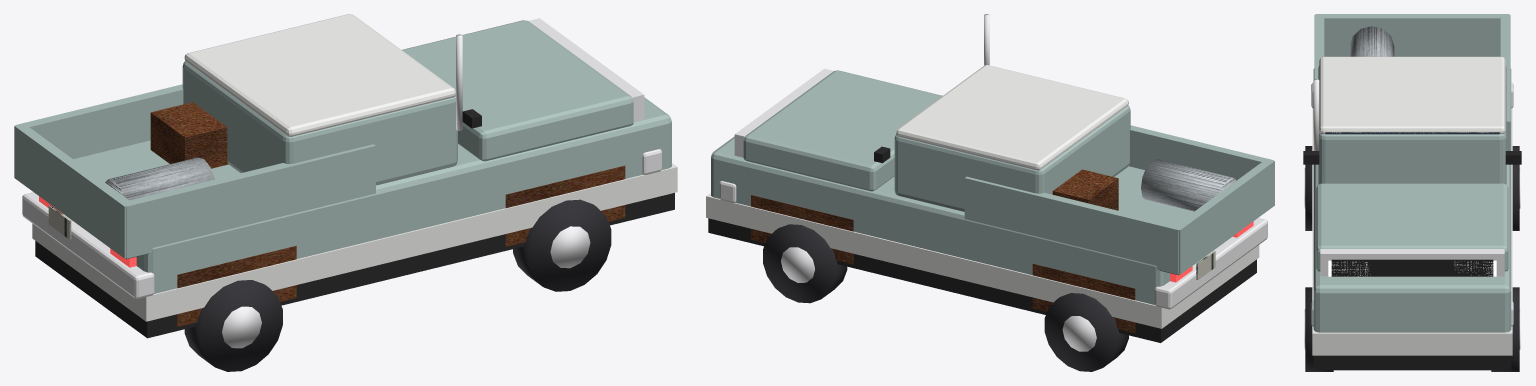
Rendered from WK_HERO_Pickup79.glb.
The picture shows the model from 3 angles, left to right: view 1: azimuth 30°, elevation 25°; view 2: azimuth 150°, elevation 25°; view 3: azimuth 270°, elevation 25°; orthographic projection. The views are drawn at different scales.
Parts seen in each view (by area): view 1: WK_HERO_Pickup79_P02, WK_HERO_Pickup79_P06, WK_HERO_Pickup79_P07, WK_HERO_Pickup79_P03, WK_HERO_Pickup79_P17, WK_HERO_Pickup79_P04, WK_HERO_Pickup79_P01, WK_HERO_Pickup79_P19, WK_HERO_Pickup79_P18, WK_HERO_Pickup79_P22, WK_HERO_Pickup79_P28, WK_HERO_Pickup79_P20 (+8 smaller); view 2: WK_HERO_Pickup79_P02, WK_HERO_Pickup79_P06, WK_HERO_Pickup79_P07, WK_HERO_Pickup79_P03, WK_HERO_Pickup79_P18, WK_HERO_Pickup79_P04, WK_HERO_Pickup79_P01, WK_HERO_Pickup79_P19, WK_HERO_Pickup79_P31, WK_HERO_Pickup79_P25, WK_HERO_Pickup79_P17, WK_HERO_Pickup79_P21 (+7 smaller); view 3: WK_HERO_Pickup79_P06, WK_HERO_Pickup79_P07, WK_HERO_Pickup79_P02, WK_HERO_Pickup79_P04, WK_HERO_Pickup79_P19, WK_HERO_Pickup79_P03, WK_HERO_Pickup79_P01, WK_HERO_Pickup79_P09, WK_HERO_Pickup79_P08, WK_HERO_Pickup79_P21, WK_HERO_Pickup79_P18, WK_HERO_Pickup79_P22 (+8 smaller).
Part boxes in pixels (<box>): WK_HERO_Pickup79_P02: <box>73,97,671,293</box>; WK_HERO_Pickup79_P06: <box>184,14,455,136</box>; WK_HERO_Pickup79_P07: <box>402,20,633,161</box>; WK_HERO_Pickup79_P03: <box>32,163,677,321</box>; WK_HERO_Pickup79_P17: <box>122,144,375,258</box>; WK_HERO_Pickup79_P04: <box>182,61,457,185</box>; WK_HERO_Pickup79_P01: <box>35,193,674,338</box>; WK_HERO_Pickup79_P19: <box>14,125,128,258</box>; WK_HERO_Pickup79_P18: <box>16,84,183,159</box>; WK_HERO_Pickup79_P22: <box>513,199,611,291</box>; WK_HERO_Pickup79_P28: <box>184,280,282,371</box>; WK_HERO_Pickup79_P20: <box>150,102,228,168</box>; WK_HERO_Pickup79_P02: <box>711,136,1193,304</box>; WK_HERO_Pickup79_P06: <box>896,65,1128,170</box>; WK_HERO_Pickup79_P07: <box>743,70,942,191</box>; WK_HERO_Pickup79_P03: <box>706,193,1259,328</box>; WK_HERO_Pickup79_P18: <box>964,176,1181,274</box>; WK_HERO_Pickup79_P04: <box>894,105,1130,211</box>; WK_HERO_Pickup79_P01: <box>708,218,1256,342</box>; WK_HERO_Pickup79_P19: <box>1172,159,1274,274</box>; WK_HERO_Pickup79_P31: <box>1044,293,1128,371</box>; WK_HERO_Pickup79_P25: <box>763,224,847,303</box>; WK_HERO_Pickup79_P17: <box>1129,125,1273,180</box>; WK_HERO_Pickup79_P21: <box>1141,159,1236,211</box>; WK_HERO_Pickup79_P06: <box>1319,56,1505,134</box>; WK_HERO_Pickup79_P07: <box>1316,183,1508,271</box>; WK_HERO_Pickup79_P02: <box>1313,68,1511,332</box>; WK_HERO_Pickup79_P04: <box>1318,65,1506,184</box>; WK_HERO_Pickup79_P19: <box>1315,14,1509,56</box>; WK_HERO_Pickup79_P03: <box>1312,108,1512,355</box>; WK_HERO_Pickup79_P01: <box>1313,355,1511,370</box>; WK_HERO_Pickup79_P09: <box>1331,259,1493,276</box>; WK_HERO_Pickup79_P08: <box>1320,249,1504,276</box>; WK_HERO_Pickup79_P21: <box>1349,26,1394,56</box>; WK_HERO_Pickup79_P18: <box>1500,15,1510,150</box>; WK_HERO_Pickup79_P22: <box>1305,287,1333,371</box>.
Bounding box in the file's own units: 5.54 × 2.65 × 2.16.
Materials: 12 (3 with a texture image).
